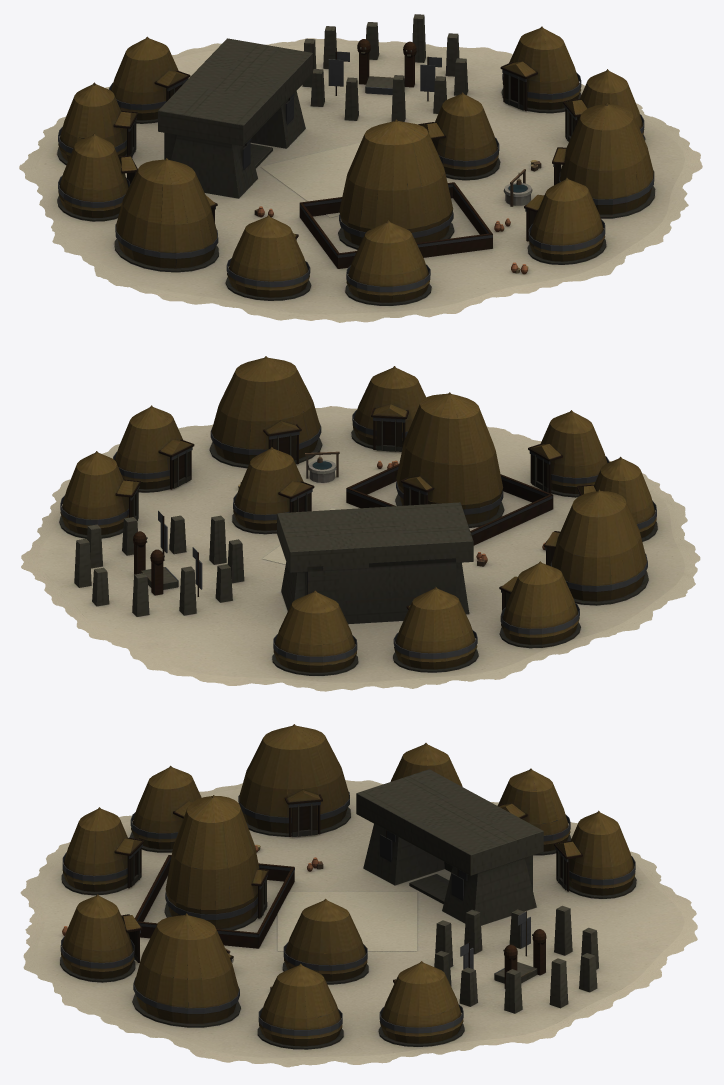
Rendered from bronze-town-medium-b-eastafrica-3e9023a6.glb.
3 views of the same model, one above another, from view 1: azimuth 30°, elevation 25°; view 2: azimuth 150°, elevation 25°; view 3: azimuth 270°, elevation 25° (orthographic).
Visible parts, largest first — view 1: LOD0; view 2: LOD0; view 3: LOD0.
Part boxes in pixels (left/top/right/bottom): LOD0: left=19, top=14, right=702, bottom=322; LOD0: left=21, top=356, right=700, bottom=691; LOD0: left=20, top=724, right=697, bottom=1067.
Size of what is drawn, in the model's own units: 5.94 by 1.11 by 5.98.
Materials: 3 (3 with a texture image).
